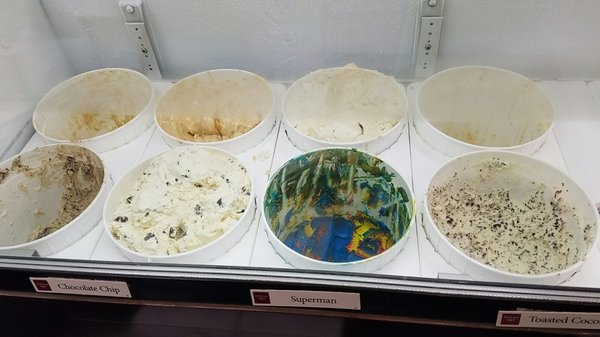sushi: (420, 152, 600, 286), (260, 146, 415, 272), (104, 146, 257, 264), (412, 65, 554, 159), (0, 143, 109, 257), (280, 64, 408, 155), (31, 67, 156, 155), (154, 68, 278, 155)
